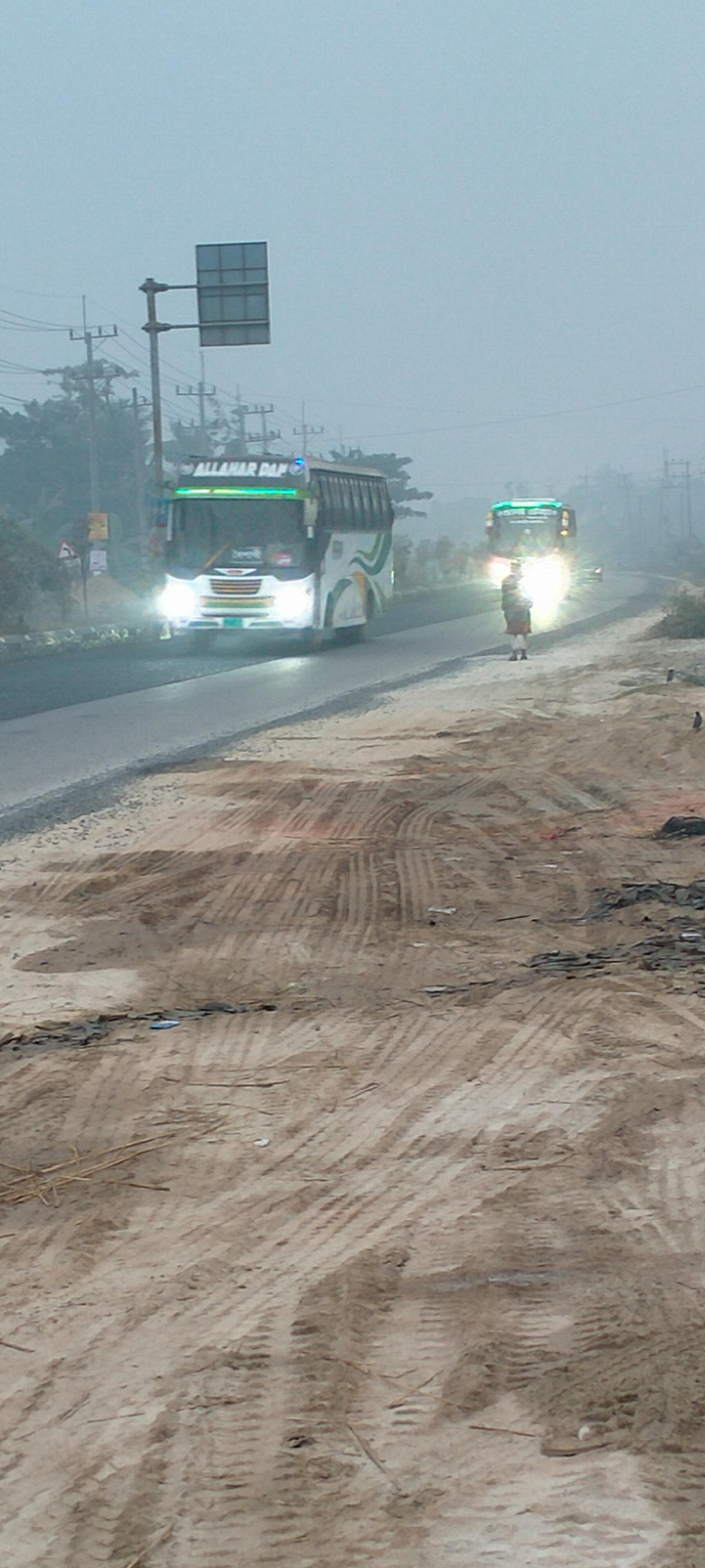Bus: (143, 447, 414, 676), (466, 486, 594, 608)
